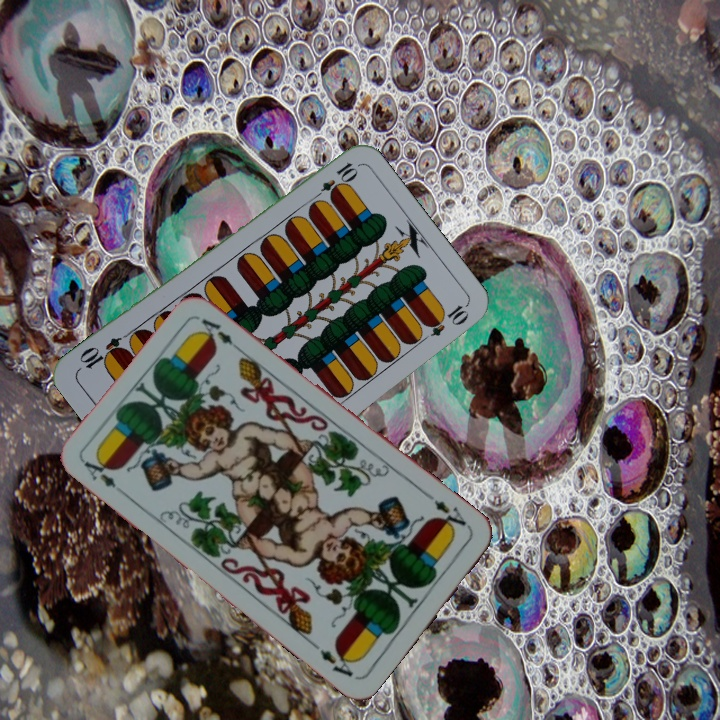E10: (308, 158, 360, 204)
EA: (80, 453, 129, 499), (430, 495, 474, 535)
